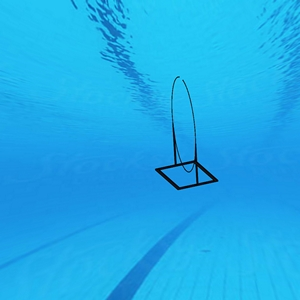circle: (147, 69, 223, 195)
